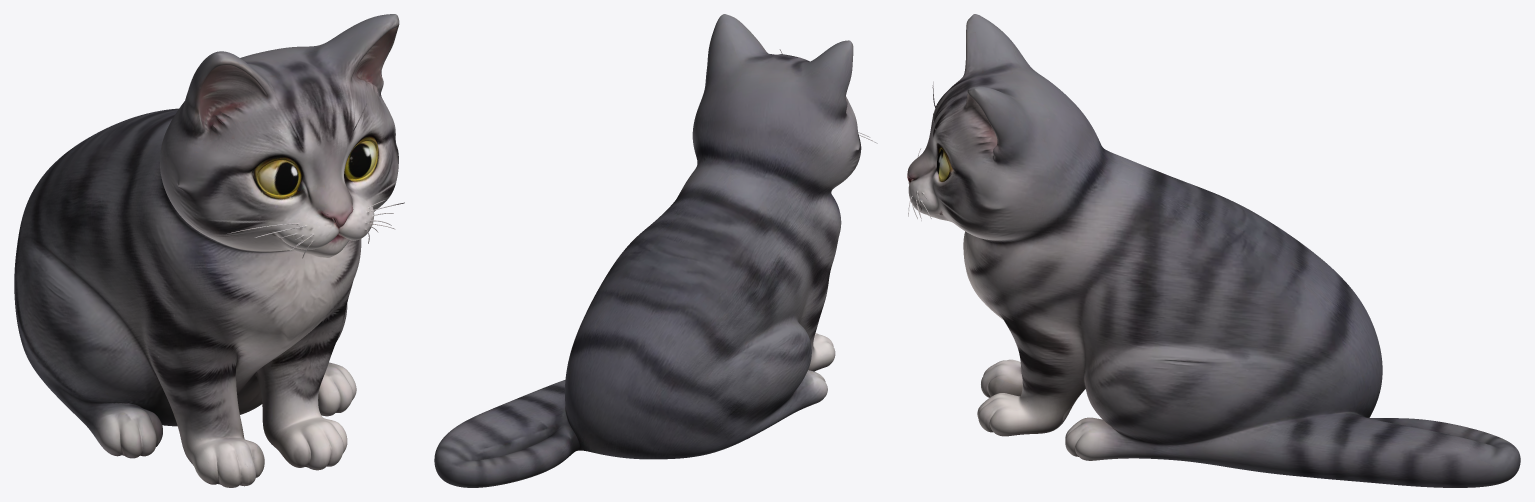
Rendered from cat_sit.glb.
3 views of the same model, side by side, from view 1: azimuth 30°, elevation 25°; view 2: azimuth 150°, elevation 25°; view 3: azimuth 270°, elevation 25° (orthographic). The views are drawn at different scales.
Parts seen in each view (by area): view 1: node_0; view 2: node_0; view 3: node_0.
Part boxes in pixels (x1,y1,x2,y2): node_0: [14, 14, 404, 487]; node_0: [434, 14, 877, 487]; node_0: [907, 14, 1520, 487].
Bounding box in the file's own units: 0.4893 × 0.648 × 0.9718.
1 material, 1 textured.
